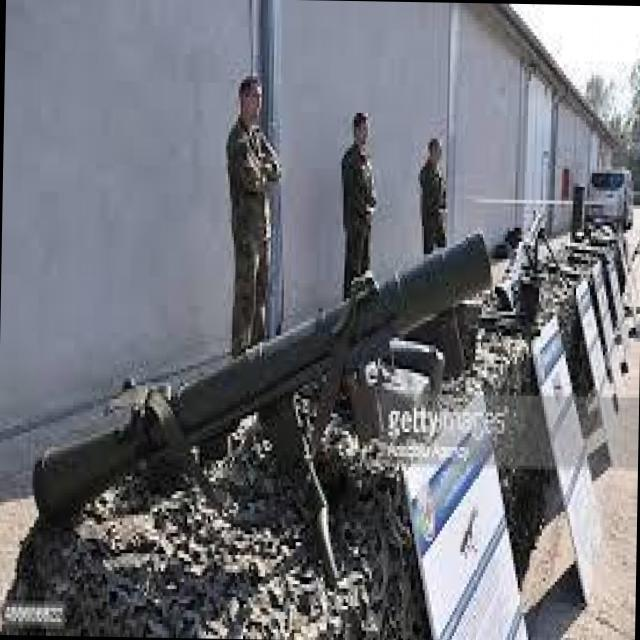rocket: (31, 224, 493, 533)
